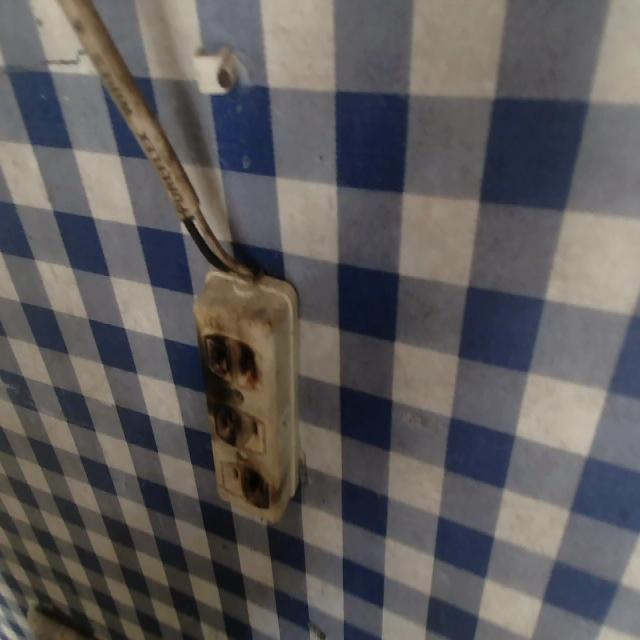-: (193, 323, 266, 401), (204, 392, 244, 463), (237, 460, 274, 513)
